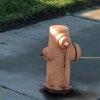a fire hydrant: (41, 23, 82, 92)
